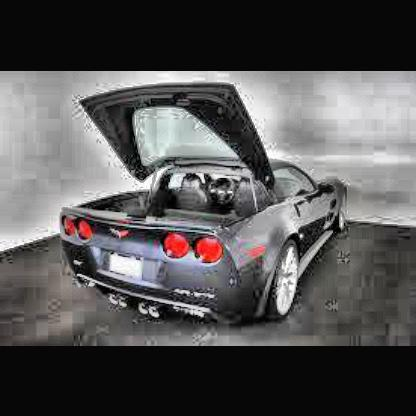Chevrolet Corvette ZR1 2012: (60, 78, 353, 332)
